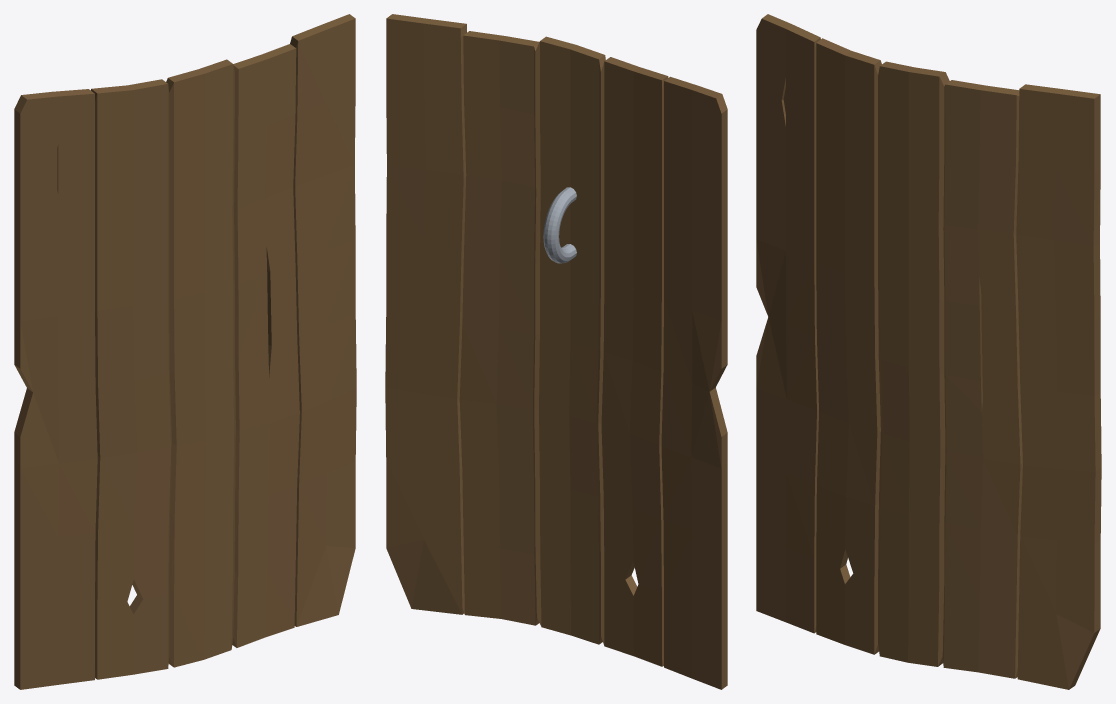
File: Tower shield.fbx
3 renders of one model, left to right at view 1: azimuth 30°, elevation 25°; view 2: azimuth 150°, elevation 25°; view 3: azimuth 330°, elevation 25°, orthographic.
Visible parts, largest first — view 1: Shield 2; view 2: Shield 2; view 3: Shield 2.
Part boxes in pixels (box(x1,y1,x2,y2)): Shield 2: box(14, 14, 356, 689); Shield 2: box(385, 14, 727, 689); Shield 2: box(756, 14, 1101, 689).
Bounding box in the file's own units: 0.7984 × 1.34 × 0.1204.
